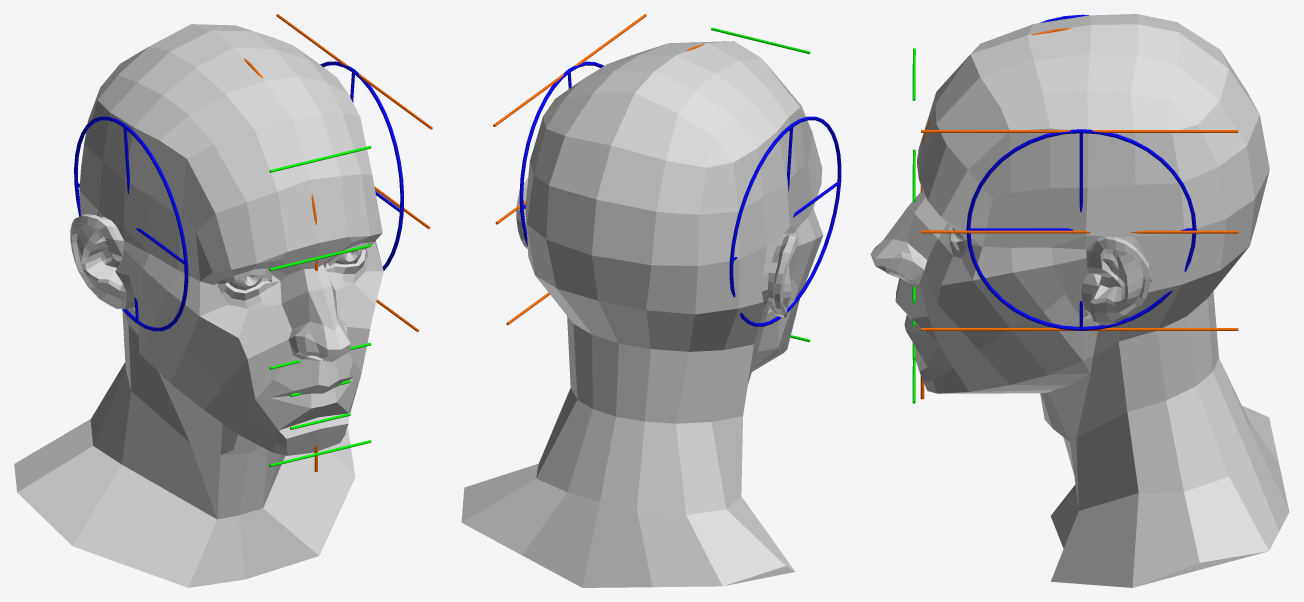
The picture shows the model from 3 angles, left to right: view 1: azimuth 30°, elevation 25°; view 2: azimuth 150°, elevation 25°; view 3: azimuth 270°, elevation 25°; orthographic projection. The views are drawn at different scales.
Visible parts, largest first — view 1: Model.001, Right_Side_Plane_Guide, Left_Side_Plane_Guide, Side_Plane_Horizontal_Top_Guide; view 2: Model.001, Right_Side_Plane_Guide, Left_Side_Plane_Guide, Side_Plane_Horizontal_Top_Guide; view 3: Model.001, Left_Side_Plane_Guide, Side_Plane_Horizontal_Middle_Guide, Side_Plane_Horizontal_Bottom_Guide, Side_Plane_Horizontal_Top_Guide.
Boxes of the visible parts, bbox=[...] form: Model.001: bbox=[14, 24, 383, 587]; Right_Side_Plane_Guide: bbox=[74, 116, 188, 331]; Left_Side_Plane_Guide: bbox=[320, 61, 403, 270]; Side_Plane_Horizontal_Top_Guide: bbox=[276, 14, 432, 129]; Model.001: bbox=[461, 41, 823, 587]; Right_Side_Plane_Guide: bbox=[729, 116, 841, 326]; Left_Side_Plane_Guide: bbox=[519, 61, 603, 246]; Side_Plane_Horizontal_Top_Guide: bbox=[493, 14, 646, 126]; Model.001: bbox=[870, 14, 1289, 587]; Left_Side_Plane_Guide: bbox=[966, 129, 1196, 330]; Side_Plane_Horizontal_Middle_Guide: bbox=[921, 230, 1238, 233]; Side_Plane_Horizontal_Bottom_Guide: bbox=[921, 328, 1238, 330]; Side_Plane_Horizontal_Top_Guide: bbox=[921, 130, 1238, 132].
Bounding box in the file's own units: 6.28 × 9.57 × 6.74.
